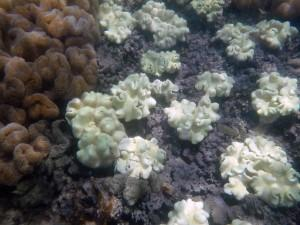bleached_corals: (56, 41, 256, 200), (221, 136, 300, 208), (169, 199, 211, 225), (142, 50, 181, 77)
